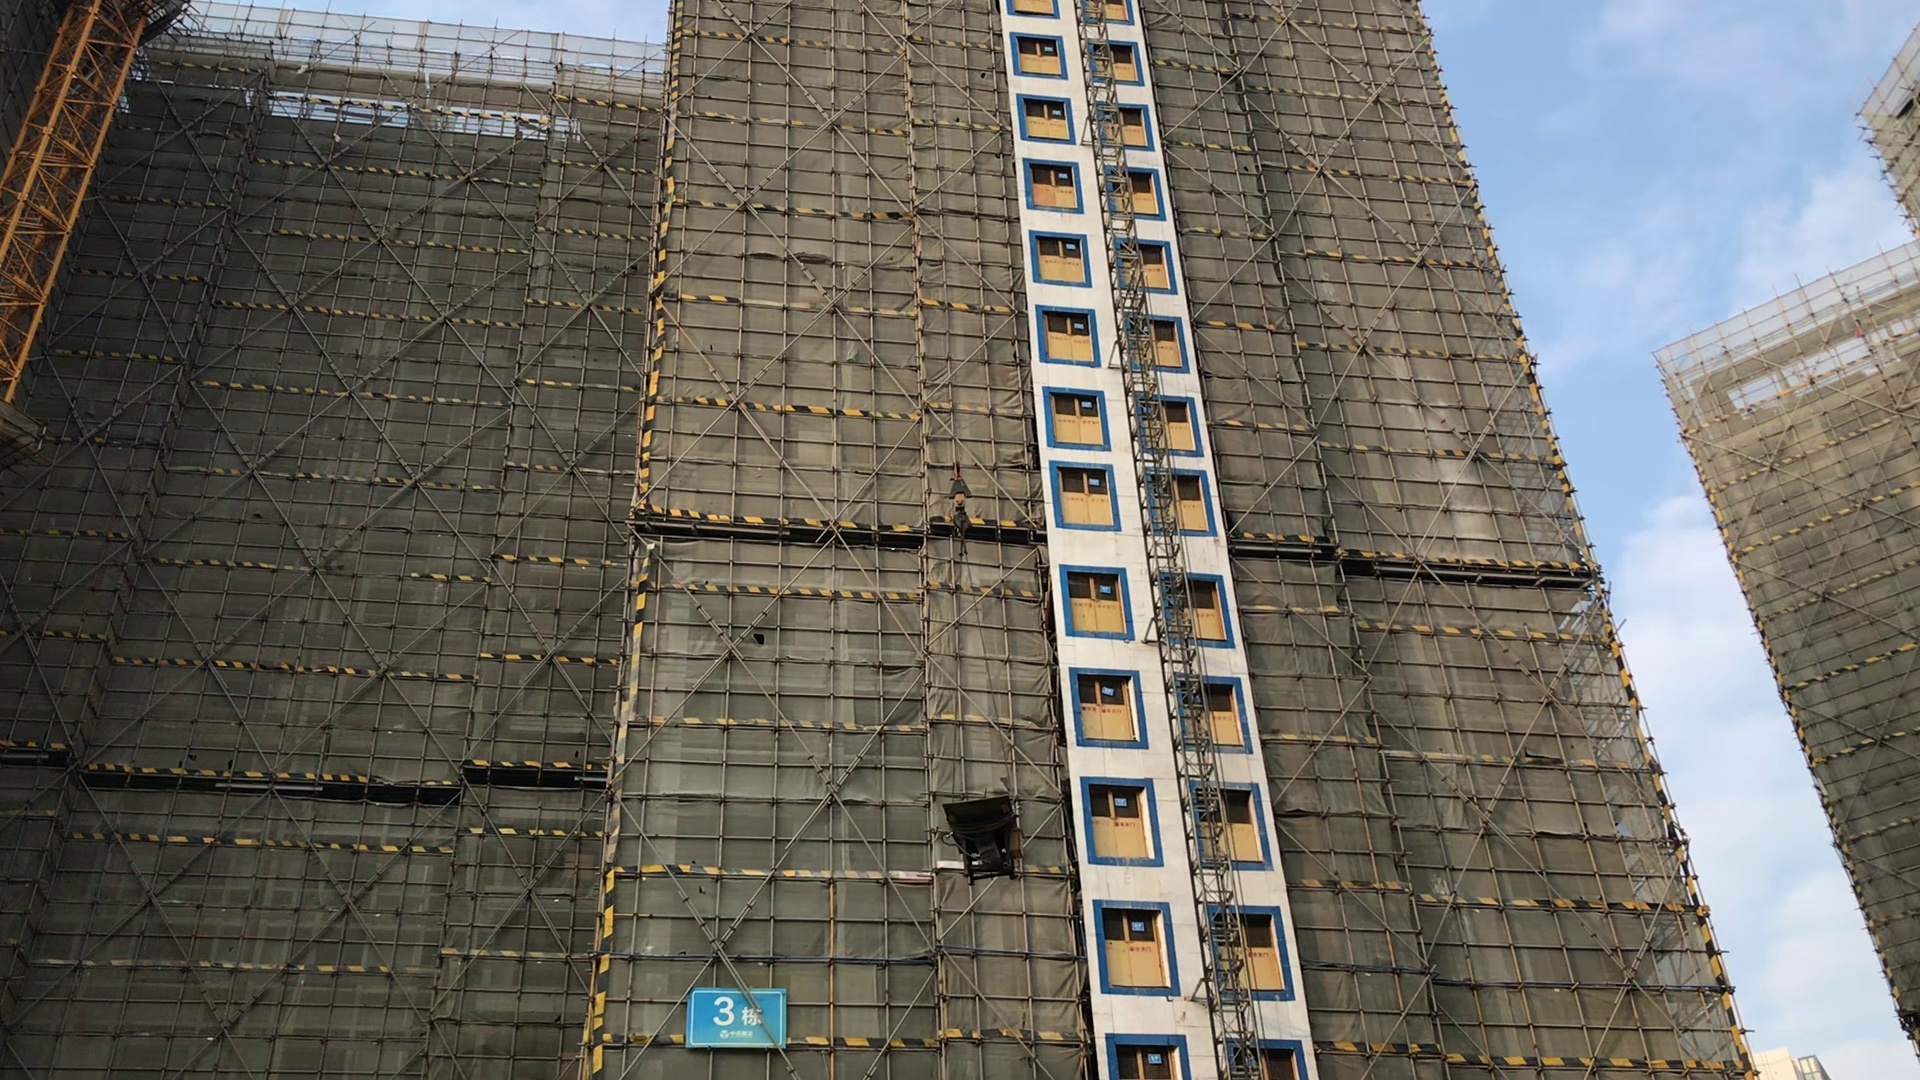hook: (942, 460, 976, 549)
